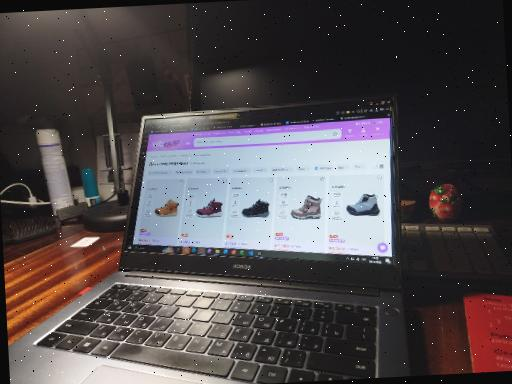wildberries: (136, 119, 397, 266)
